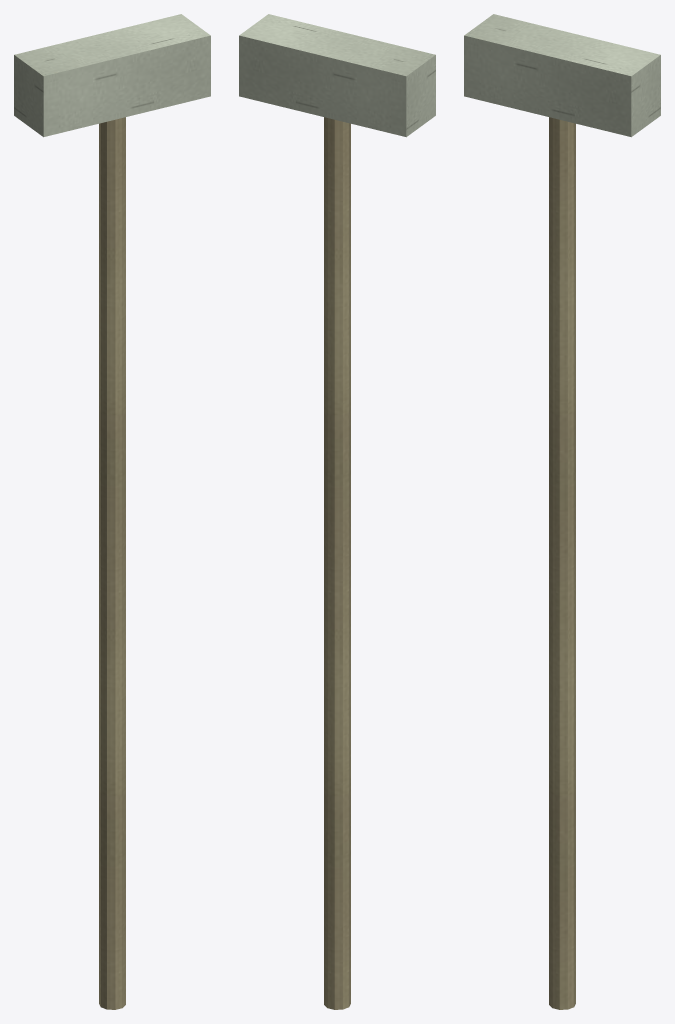
File: mop_v1.glb
3 views of the same model, side by side, from view 1: azimuth 30°, elevation 25°; view 2: azimuth 150°, elevation 25°; view 3: azimuth 330°, elevation 25° (orthographic).
Parts seen in each view (by area): view 1: Variant_mop_1; view 2: Variant_mop_1; view 3: Variant_mop_1.
Part boxes in pixels (x1,y1,x2,y2): Variant_mop_1: [14, 14, 210, 1009]; Variant_mop_1: [239, 14, 435, 1009]; Variant_mop_1: [464, 14, 660, 1009].
Size of the model in its own units: 0.23 by 1.26 by 0.07.
2 materials, 2 textured.
